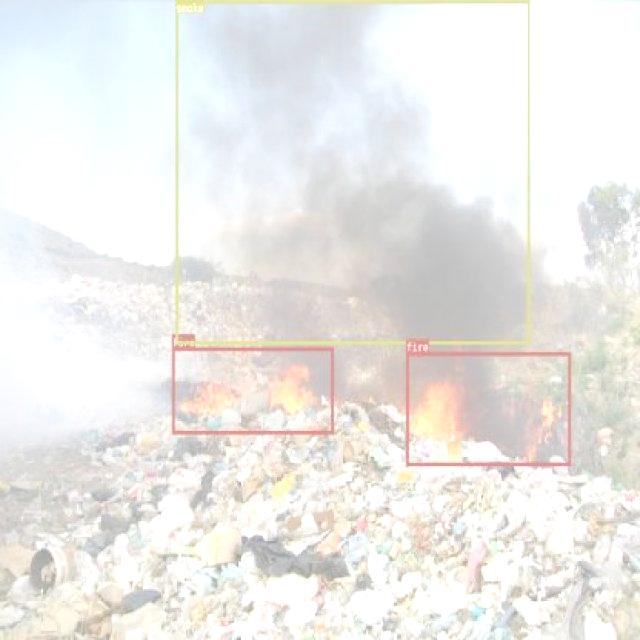fire: (405, 351, 570, 467), (172, 346, 334, 434)
smoke: (176, 0, 530, 343)
